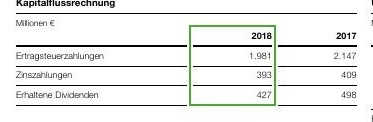table: (0, 0, 373, 122)
